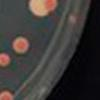pink: (10, 35, 31, 56), (27, 0, 50, 19), (0, 51, 12, 69), (43, 0, 59, 13), (0, 89, 16, 100)
